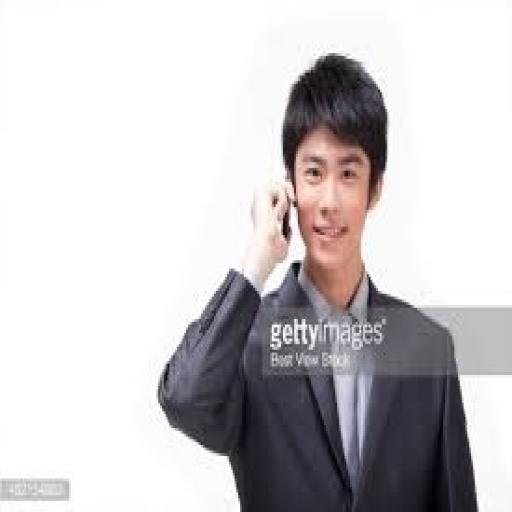calling: (155, 50, 484, 510)
